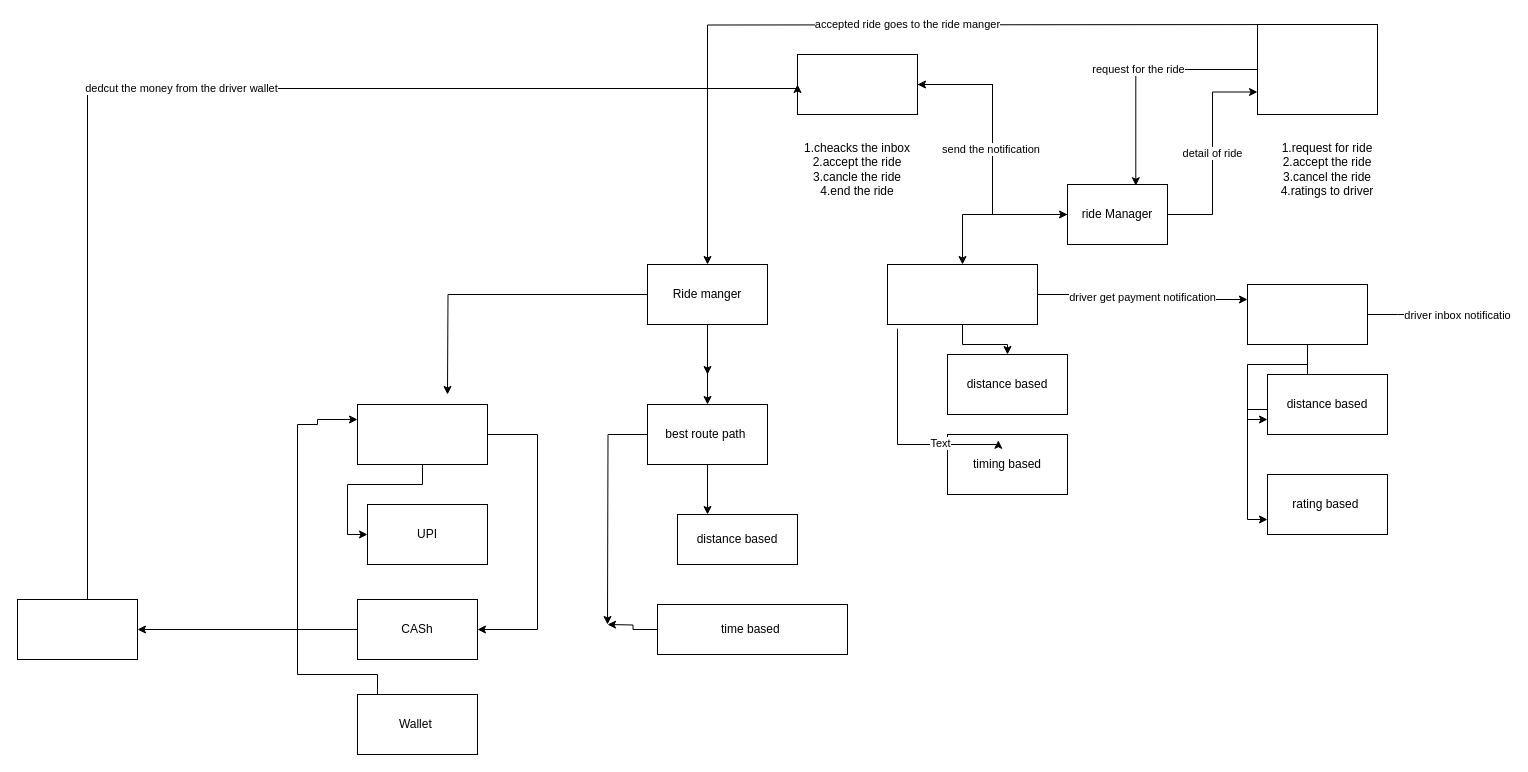
The diagram is 1528 pixels wide and 772 high, and some of its shapes have lost their labels. Each missing label, with the centre of its shape:
"driver" belongs at (857,84).
"driver matching" belongs at (1307,314).
"payment configuration" belongs at (962,294).
"paymernt service" belongs at (422,434).
"Rider" belongs at (1317,69).
"withdrwa amanager" belongs at (77,629).
